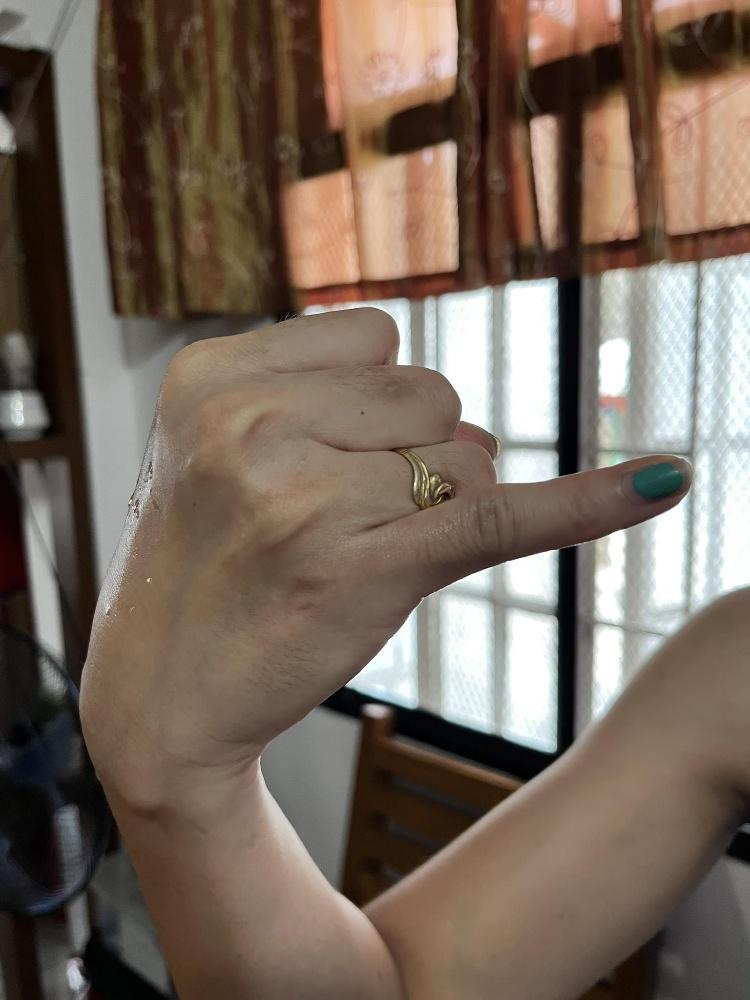j: (96, 302, 695, 741)
